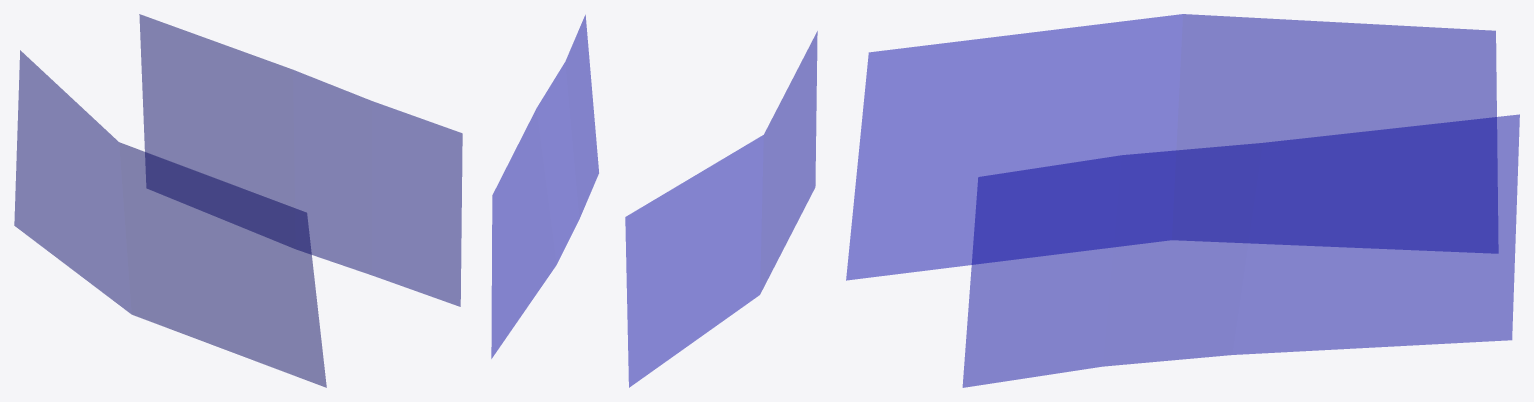
File: track_military_coll_wall_39.fbx
3 views of the same model, side by side, from view 1: azimuth 30°, elevation 25°; view 2: azimuth 150°, elevation 25°; view 3: azimuth 270°, elevation 25° (orthographic). The views are drawn at different scales.
Parts seen in each view (by area): view 1: track_military_coll_wall_39; view 2: track_military_coll_wall_39; view 3: track_military_coll_wall_39.
Part boxes in pixels (x1,y1,x2,y2): track_military_coll_wall_39: (14,14,462,387); track_military_coll_wall_39: (491,15,817,387); track_military_coll_wall_39: (846,14,1519,387).
Bounding box in the file's own units: 50.21 × 32.67 × 86.
